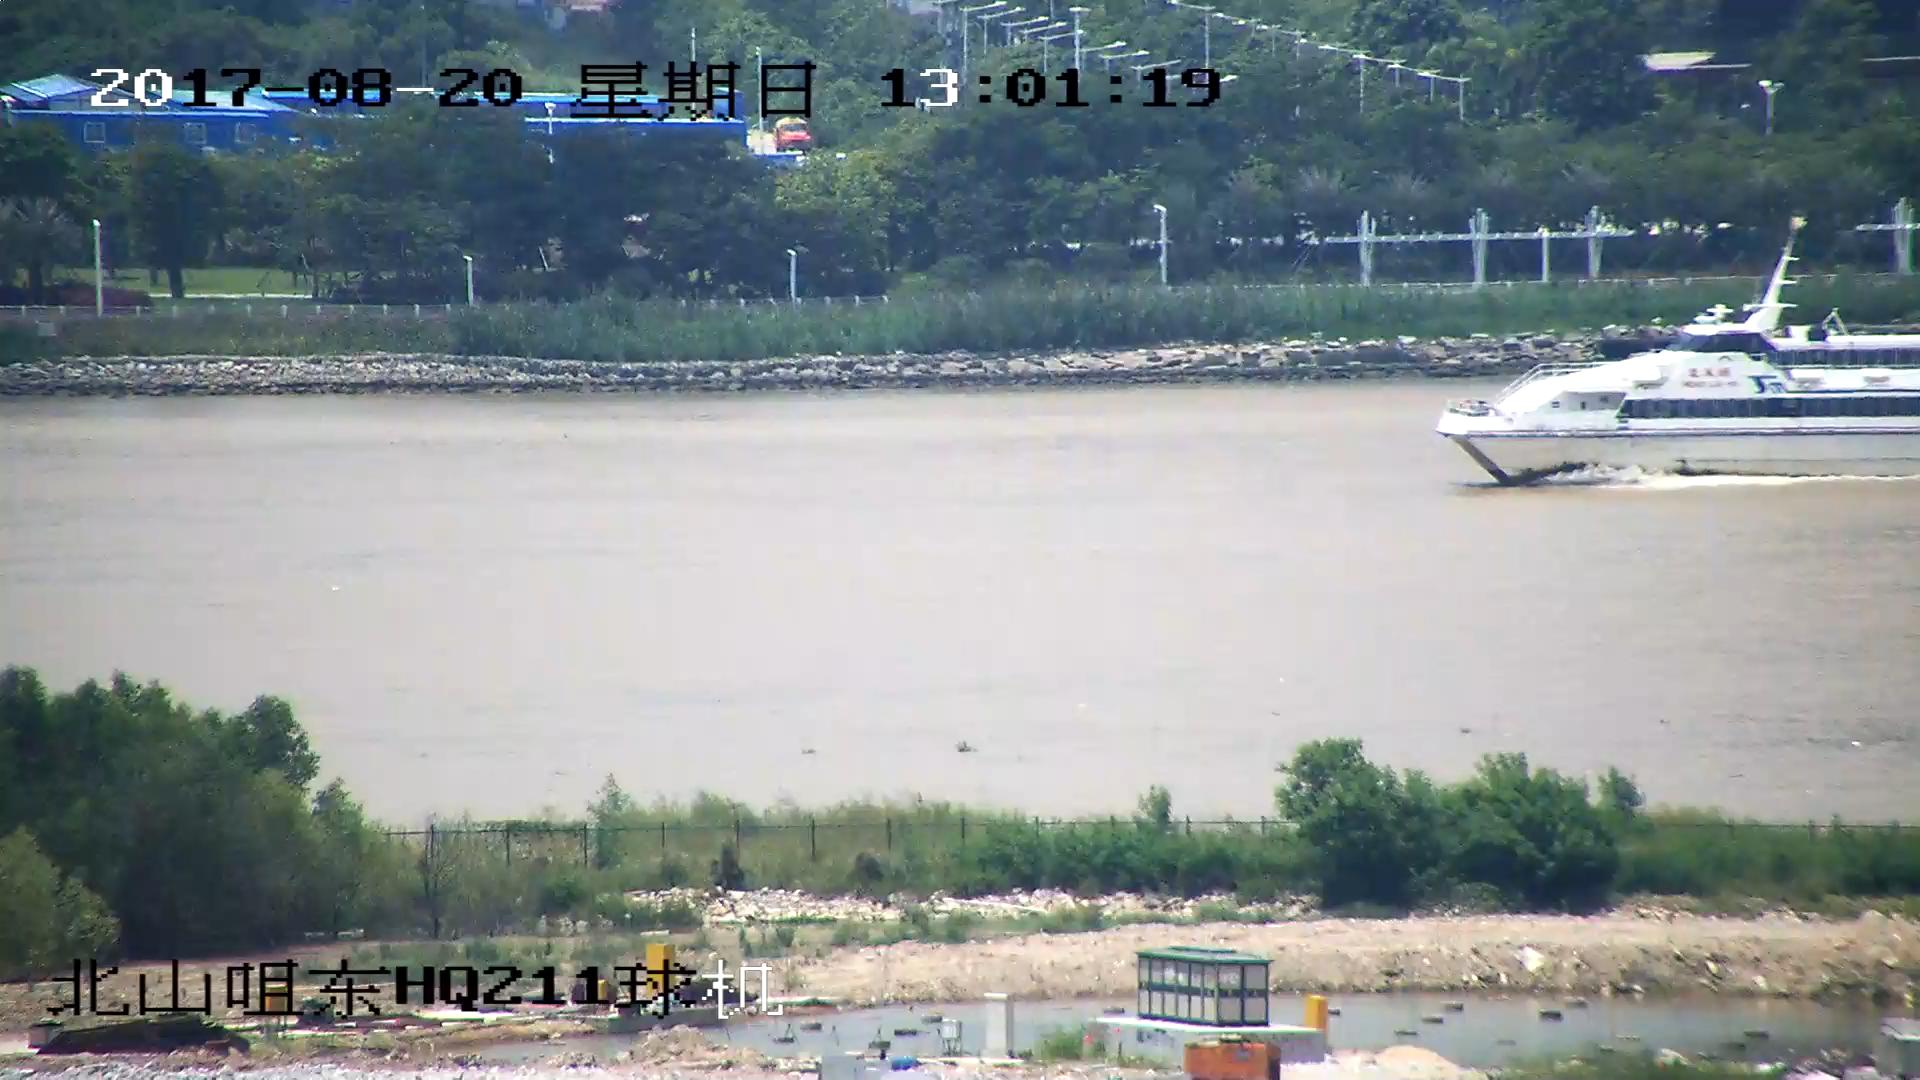passenger ship: (1433, 245, 1920, 486)
